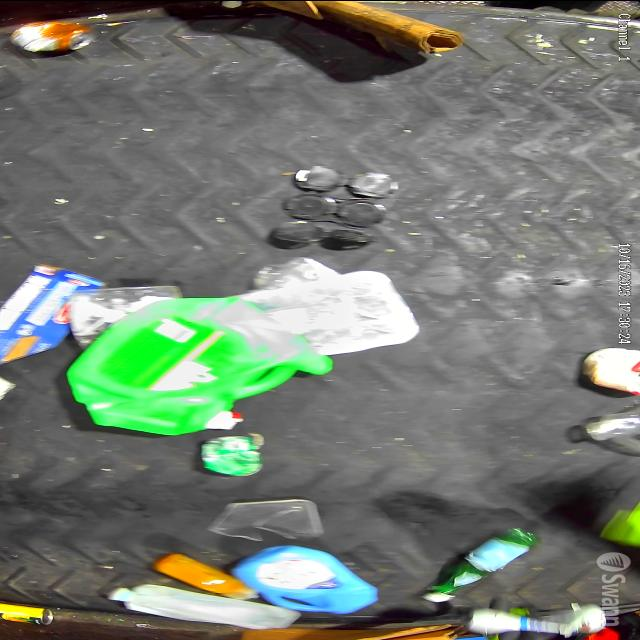can: (0, 12, 105, 58), (192, 432, 282, 480)
non_white_jug: (66, 292, 336, 432), (228, 542, 390, 618)
plastic_bottle: (424, 520, 542, 603), (104, 584, 300, 628)
